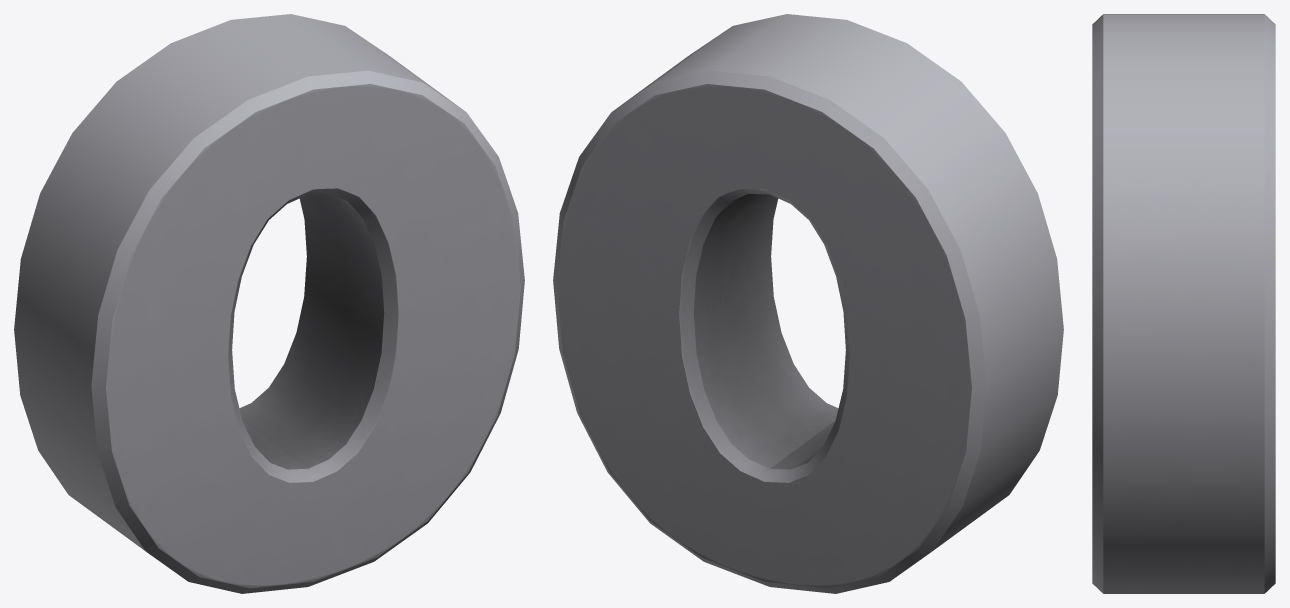
Rendered from O_static.fbx.
3 views of the same model, side by side, from view 1: azimuth 30°, elevation 25°; view 2: azimuth 150°, elevation 25°; view 3: azimuth 270°, elevation 25° (orthographic). The views are drawn at different scales.
Visible parts, largest first — view 1: O_static; view 2: O_static; view 3: O_static.
Boxes of the visible parts, x1=… form: O_static: x1=14, y1=14, x2=524, y2=593; O_static: x1=553, y1=14, x2=1063, y2=593; O_static: x1=1092, y1=14, x2=1275, y2=593.
Bounding box in the file's own units: 93.88 × 106 × 33.
